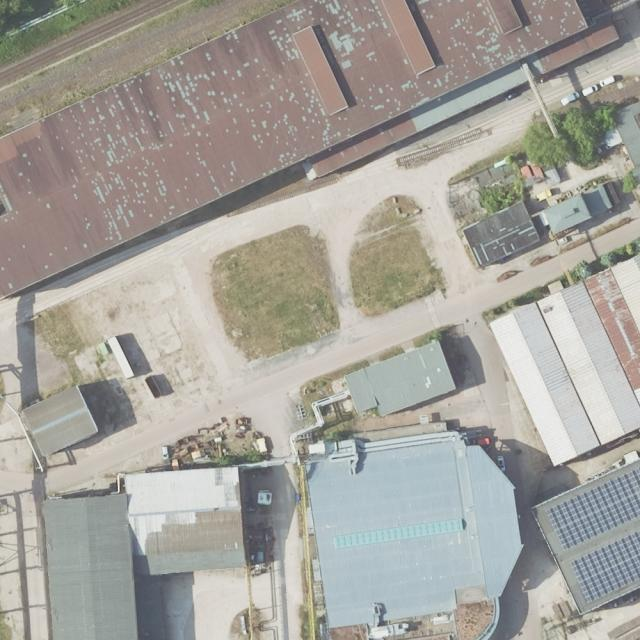PV: (545, 467, 640, 551), (569, 529, 640, 604)
